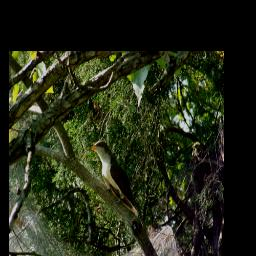Cuckoo: (90, 138, 150, 236)
